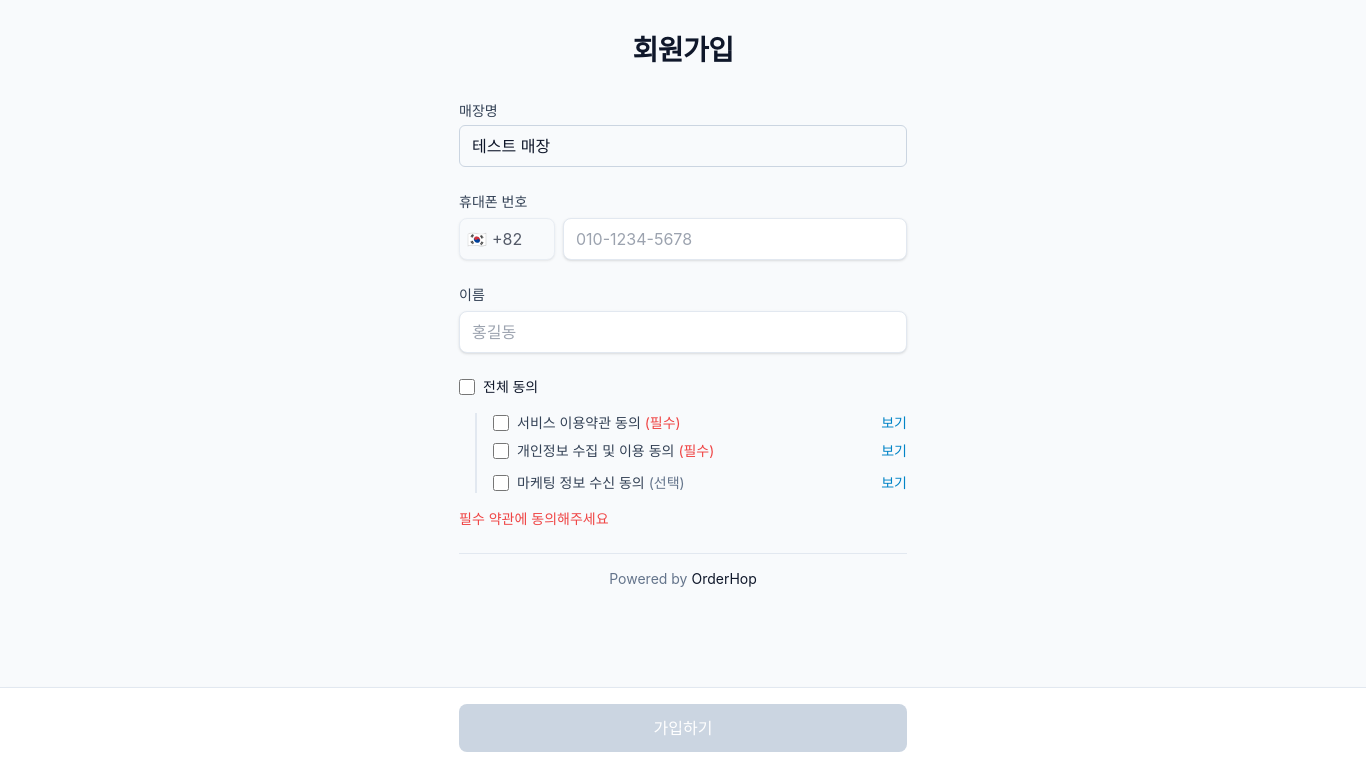
RegisterForm › validates phone number input
The image size is (1366, 768).
Note: 잘못된 형식의 전화번호 입력
Step 1. Type "123" into the field labelled "휴대폰 번호" → point(735, 239), box [563,218,907,260]
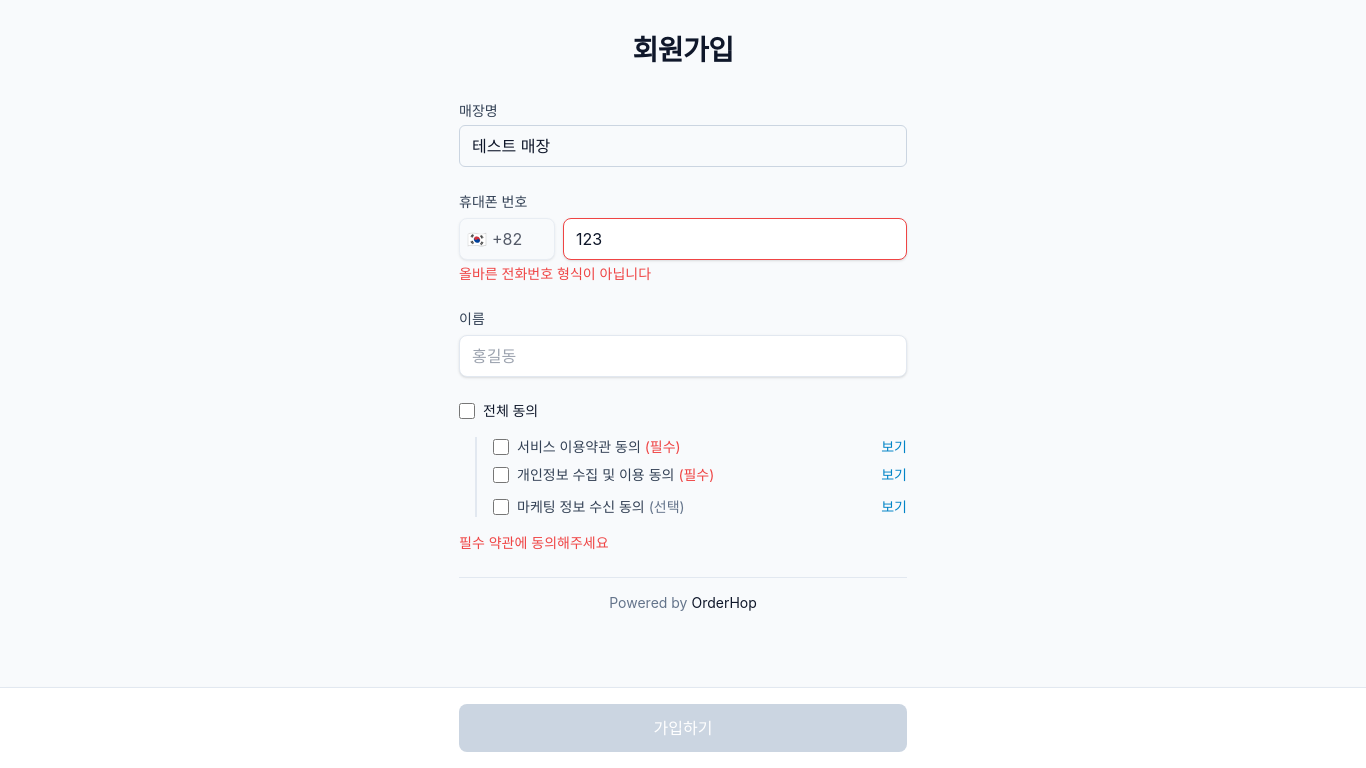
Now the text "올바른 전화번호 형식이 아닙니다" is shown, box [459,265,651,282]
Note: 올바른 형식의 전화번호 입력
Step 2. Replace the text in the field labelled "휴대폰 번호" with "01012345678" → point(735, 239), box [563,218,907,260]
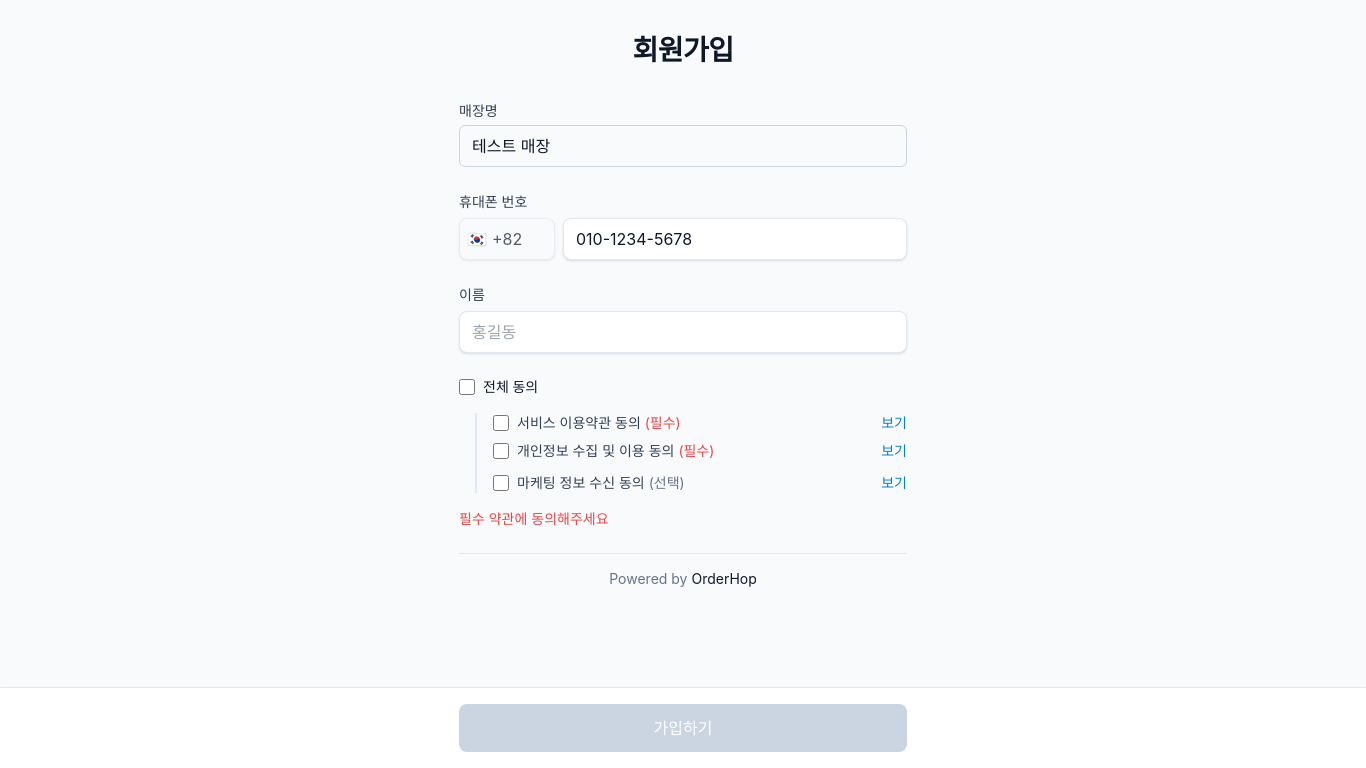
Now the text "올바른 전화번호 형식이 아닙니다" is gone
